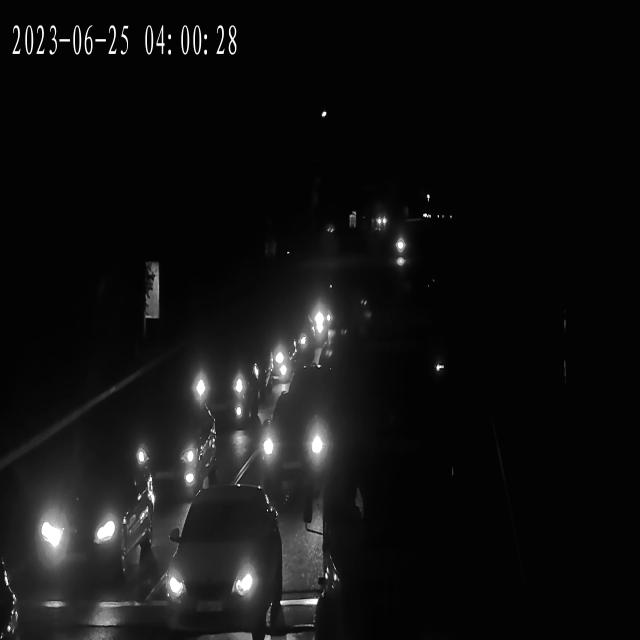Car: (330, 404, 460, 627), (11, 455, 160, 588), (156, 490, 283, 620), (127, 408, 220, 497), (254, 398, 332, 476), (188, 336, 264, 412), (251, 336, 291, 392), (296, 295, 342, 342), (275, 321, 320, 368), (370, 212, 389, 232)
